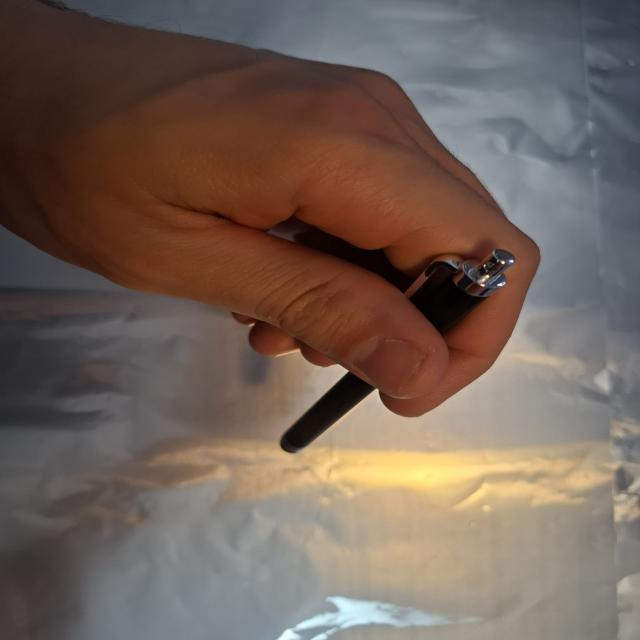glove_off: (1, 9, 544, 419)
